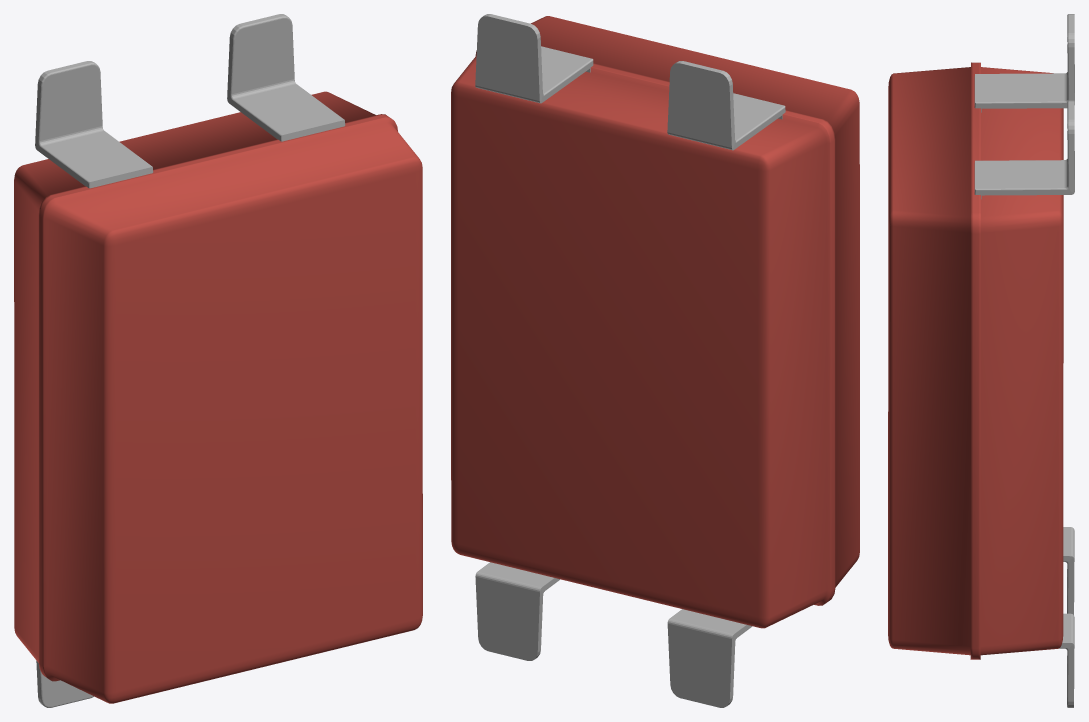
Rendered from sensor.glb.
The picture shows the model from 3 angles, left to right: view 1: azimuth 30°, elevation 25°; view 2: azimuth 150°, elevation 25°; view 3: azimuth 270°, elevation 25°; orthographic projection. The views are drawn at different scales.
Visible parts, largest first — view 1: Cube.004; view 2: Cube.004; view 3: Cube.004.
Part boxes in pixels (x1,y1,x2,y2): Cube.004: (14,14,422,707); Cube.004: (451,14,859,707); Cube.004: (888,14,1074,707).
Size of the model in its own units: 0.501 by 0.8558 by 0.2466.
